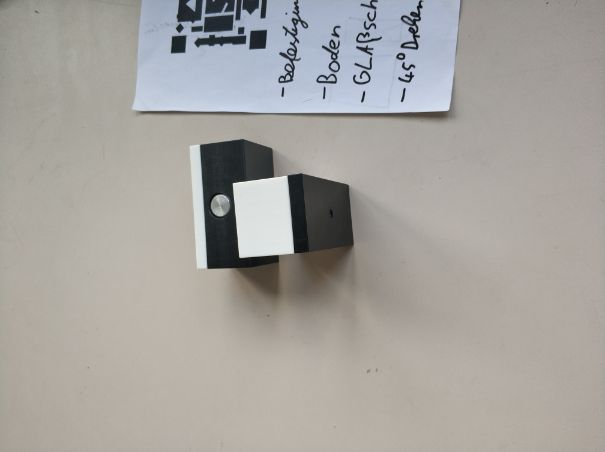white+black+silver: (187, 137, 281, 271)
